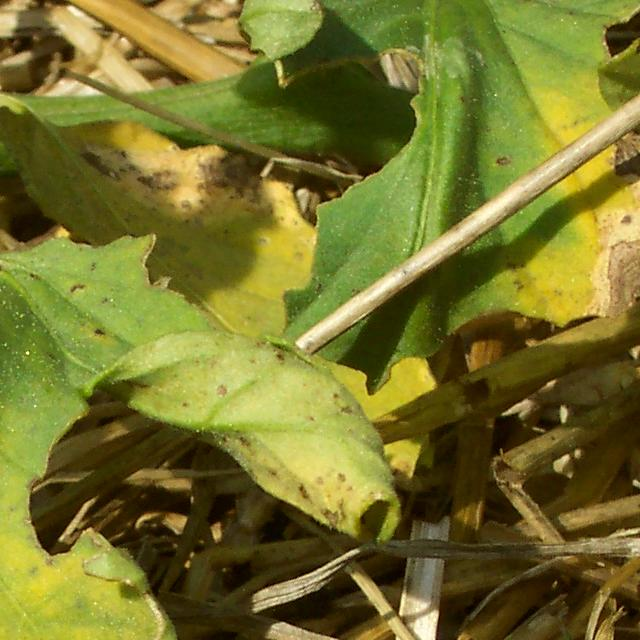Tomato Early blight leaf: (0, 177, 544, 640)
